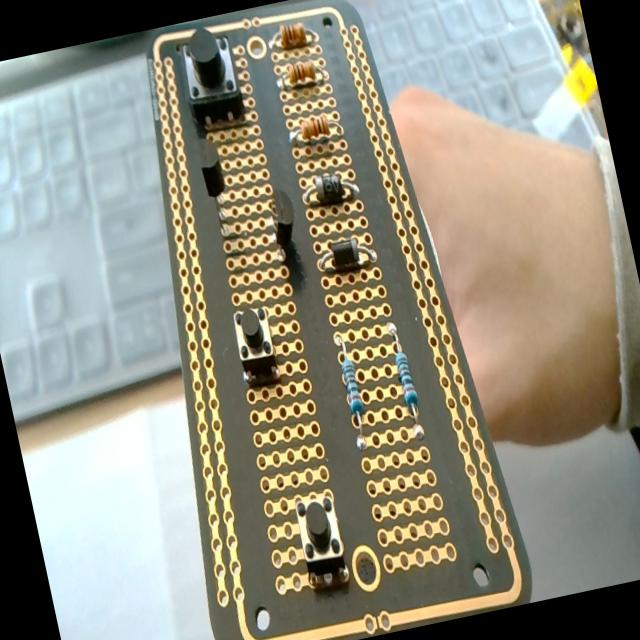diode: (292, 154, 372, 228), (301, 224, 388, 289)
resistor: (326, 326, 378, 469), (380, 314, 431, 458), (255, 16, 328, 64), (266, 52, 338, 100), (283, 114, 350, 156)
switch: (162, 12, 255, 141), (292, 481, 355, 571), (225, 292, 284, 386)
transistor: (250, 170, 318, 304), (188, 132, 244, 244)
